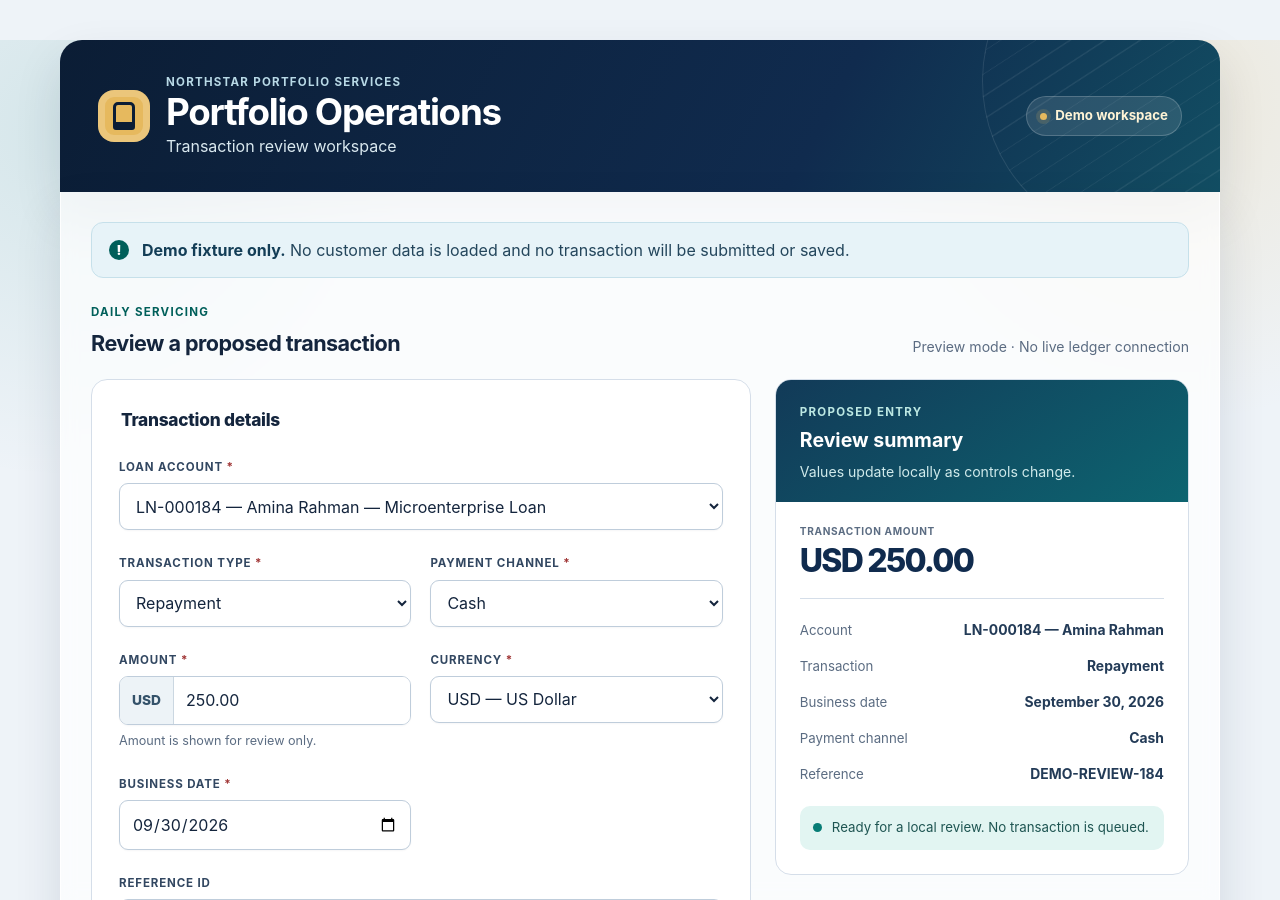
Test: PortfolioTransactionReview › updates the local summary and never turns review into submission
Select "Write-off" in the dropdown labelled "Transaction type *" at [265, 603], box top-left (119, 580), bottom-right (411, 627)
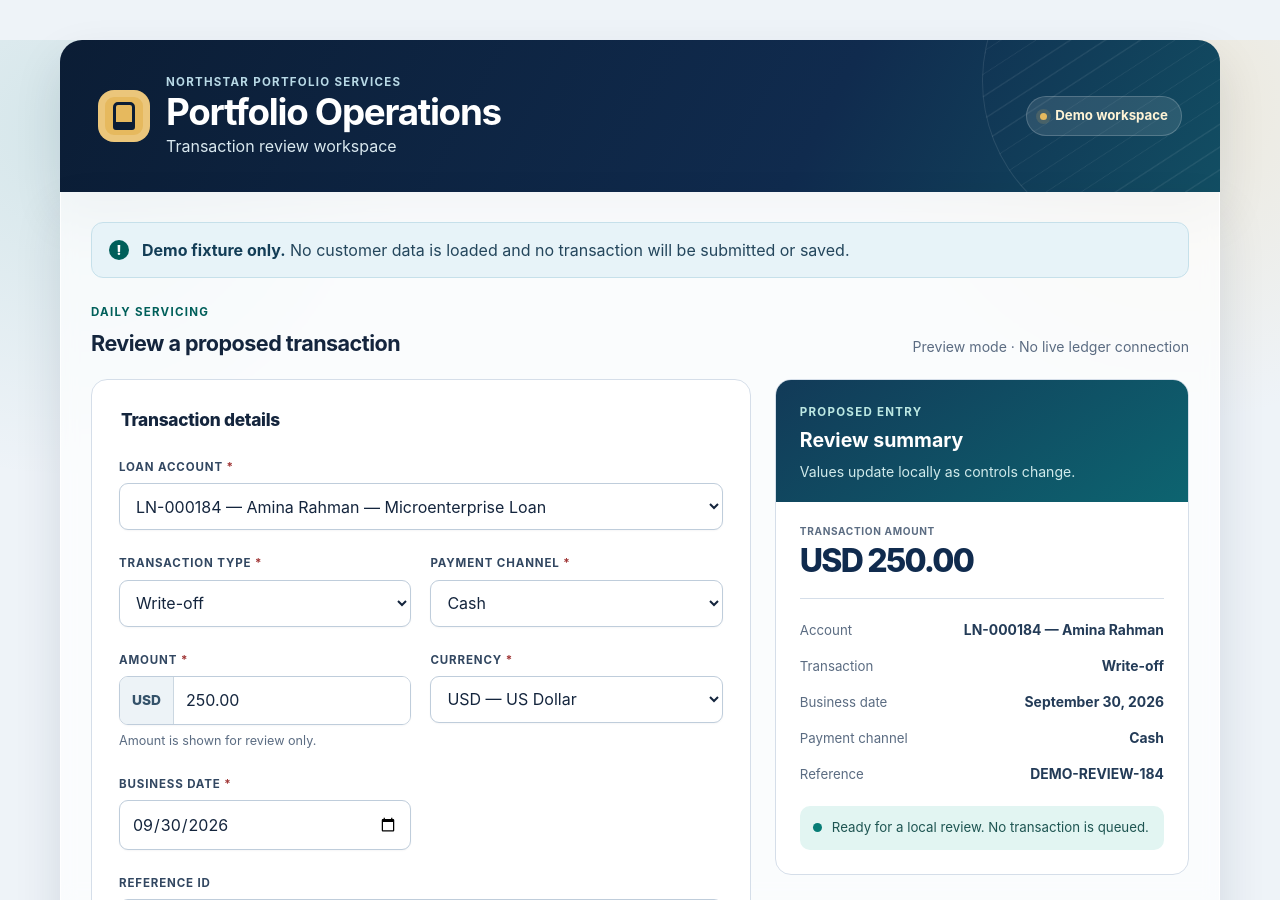
Select "KES — Kenyan Shilling" in the dropdown labelled "Currency *" at [577, 699], box top-left (430, 676), bottom-right (723, 723)
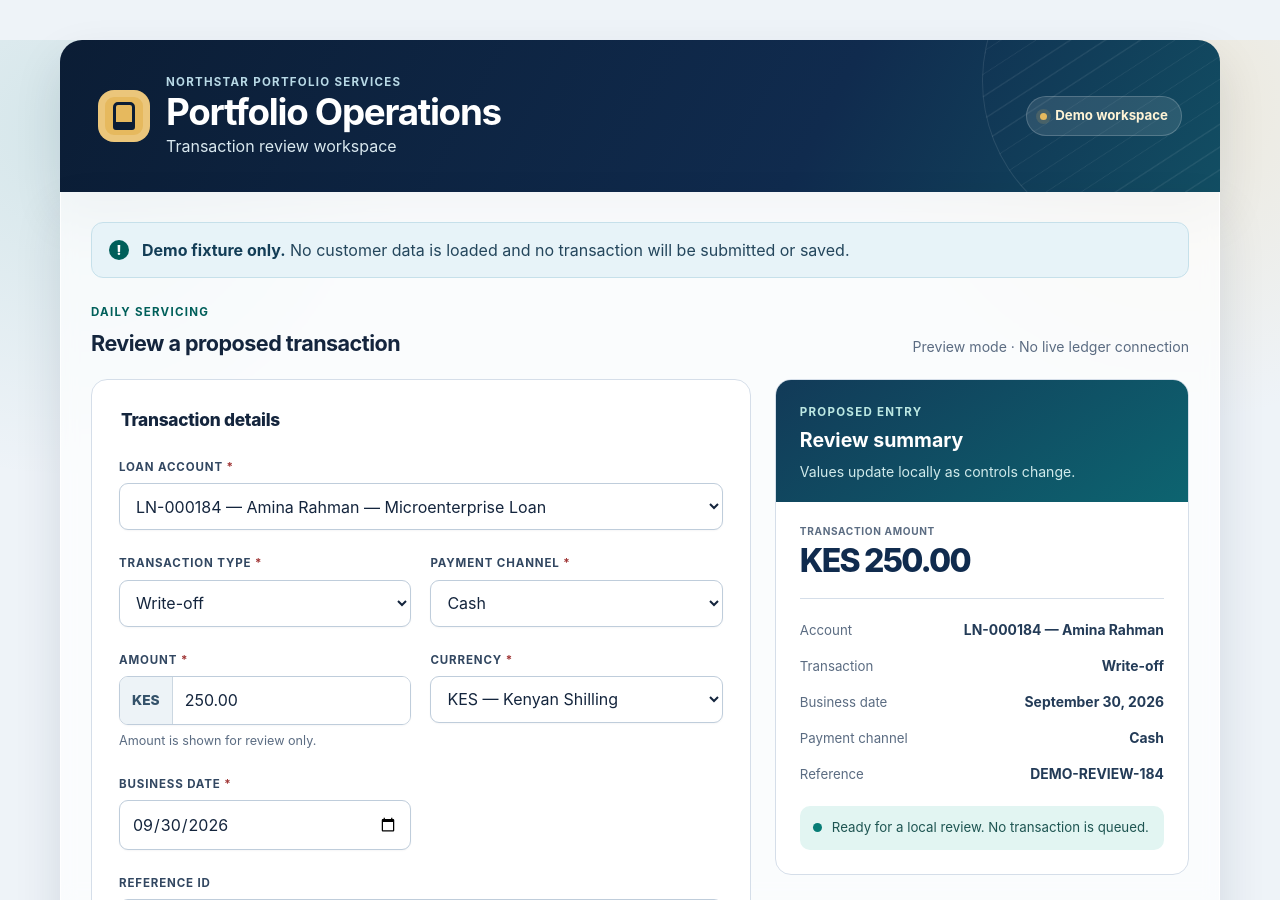
Replace the text in the number field labelled "Amount *" with "430.50" at [292, 700], box top-left (173, 677), bottom-right (410, 724)
(page scrolled)
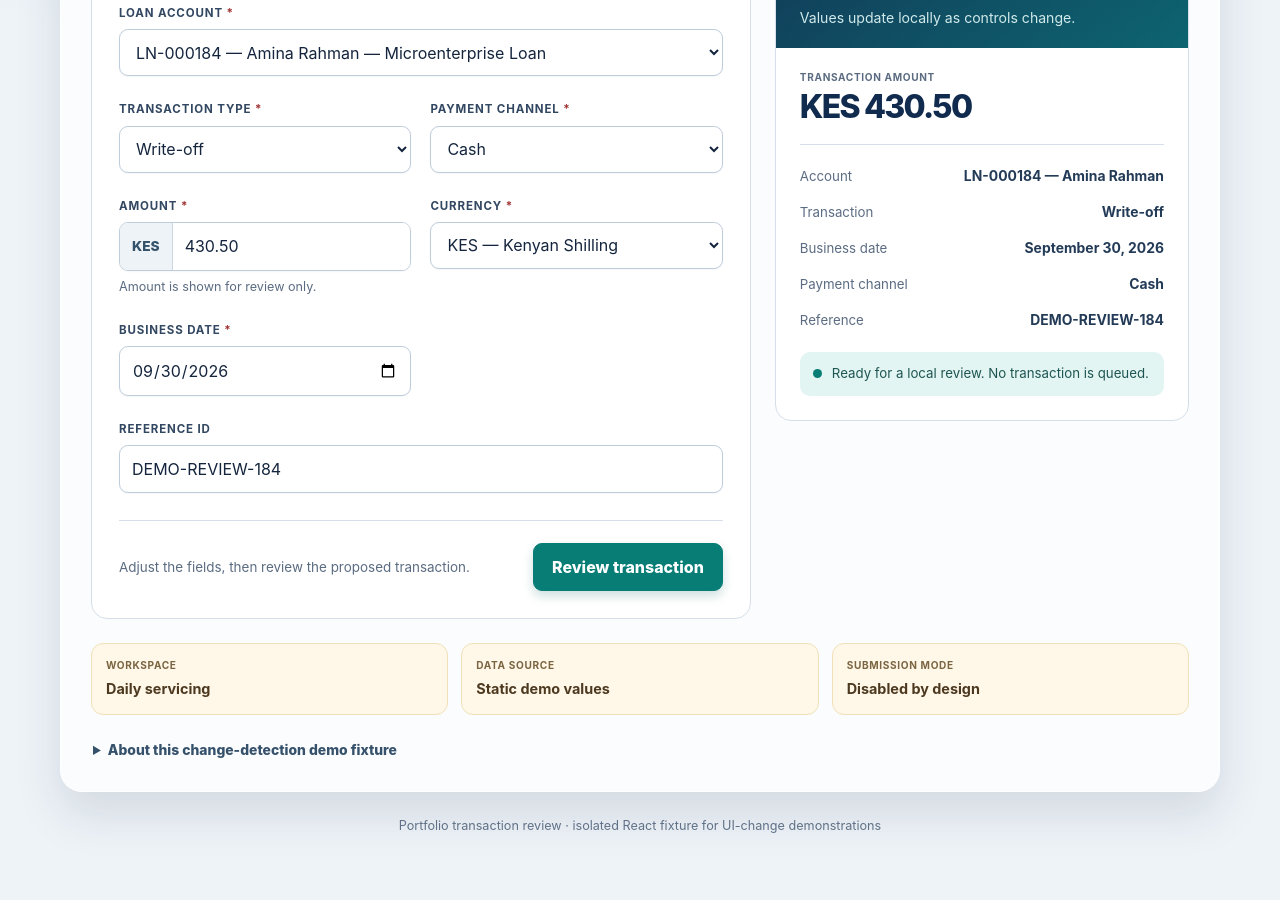
Click the button "Review transaction" at [628, 567], box top-left (533, 543), bottom-right (723, 591)
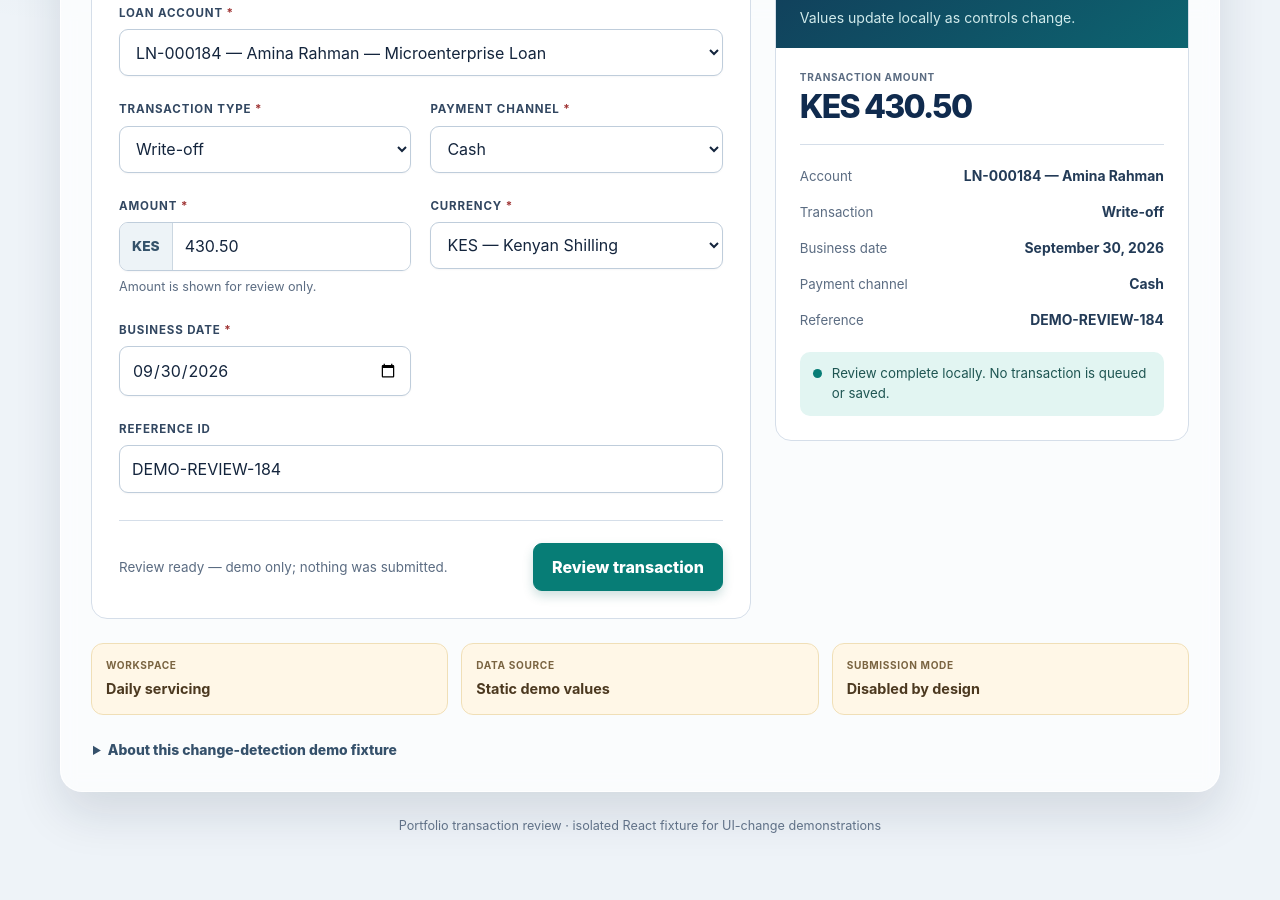
expect the text with id "summary-transaction-type" reads "Write-off": met, box top-left (1102, 204), bottom-right (1164, 220)
expect the text with id "summary-amount" reads "KES 430.50": met, box top-left (800, 87), bottom-right (971, 126)
expect the text with id "review-status" shows "nothing was submitted": met, box top-left (119, 559), bottom-right (448, 575)
